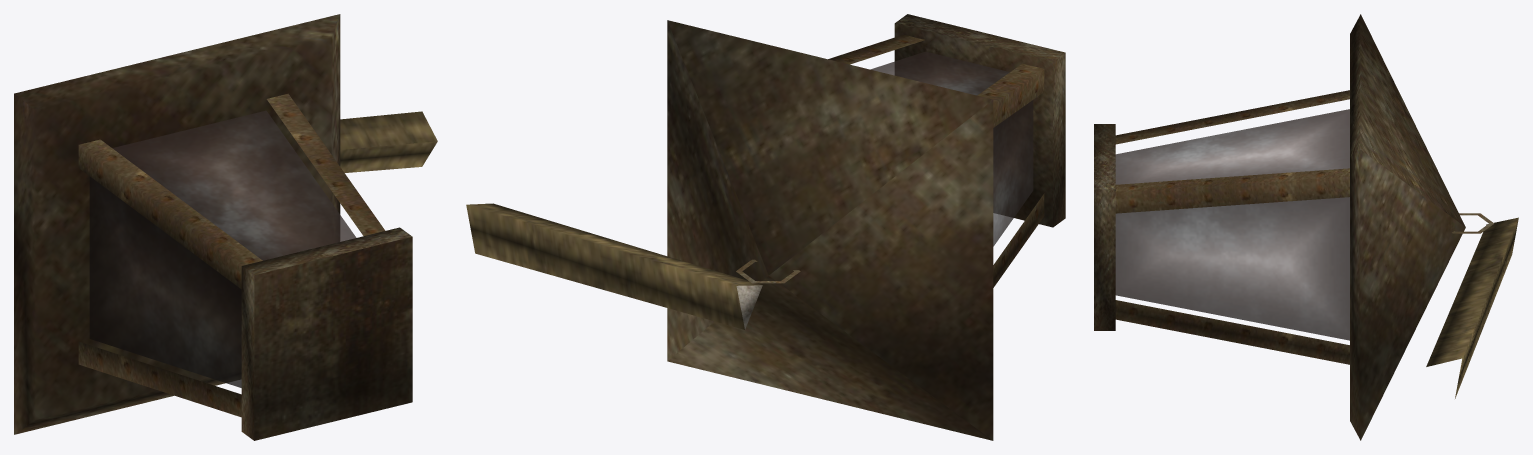
The picture shows the model from 3 angles, left to right: view 1: azimuth 30°, elevation 25°; view 2: azimuth 150°, elevation 25°; view 3: azimuth 270°, elevation 25°; orthographic projection. The views are drawn at different scales.
Visible parts, largest first — view 1: l_lampstruct0.jpg__, l_lampsglass0.png__, electroPost.jpg__; view 2: l_lampstruct0.jpg__, electroPost.jpg__, l_lampsglass0.png__; view 3: l_lampstruct0.jpg__, l_lampsglass0.png__, electroPost.jpg__.
Part boxes in pixels (x1,y1,x2,y2): l_lampstruct0.jpg__: (14, 14, 412, 440); l_lampsglass0.png__: (89, 110, 356, 387); electroPost.jpg__: (340, 111, 437, 172); l_lampstruct0.jpg__: (667, 14, 1065, 440); electroPost.jpg__: (466, 203, 762, 329); l_lampsglass0.png__: (870, 51, 1033, 246); l_lampstruct0.jpg__: (1094, 14, 1493, 440); l_lampsglass0.png__: (1115, 109, 1349, 340); electroPost.jpg__: (1426, 217, 1518, 398).
Bounding box in the file's own units: 2.13 × 1.48 × 1.96.
Materials: 3 (3 with a texture image).
